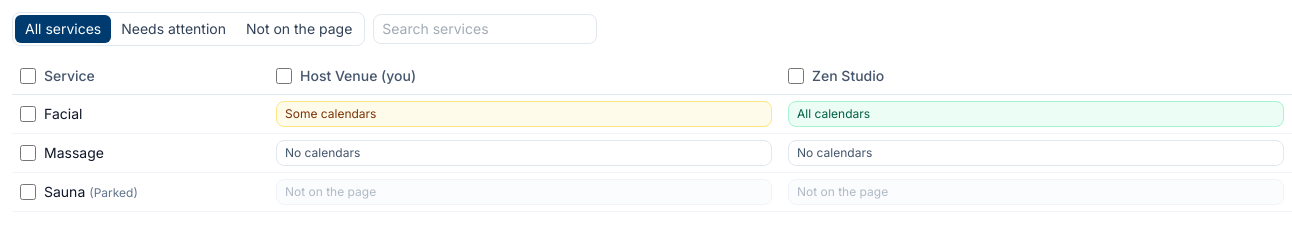
Test case: the grid › narrows to the rows that need attention
This screenshot has width=1292, height=229.
Click the button "Needs attention": {"x": 174, "y": 29} [111,15,236,43]
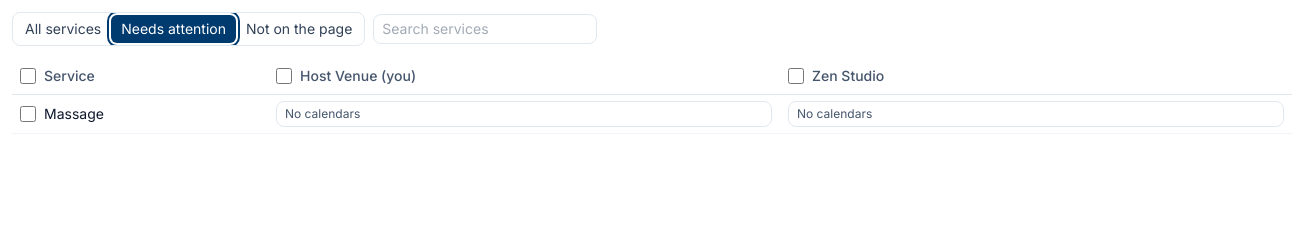
Check: the column heading "Massage" is shown, box [12,94,268,134]
Check: the text "Facial" is gone
